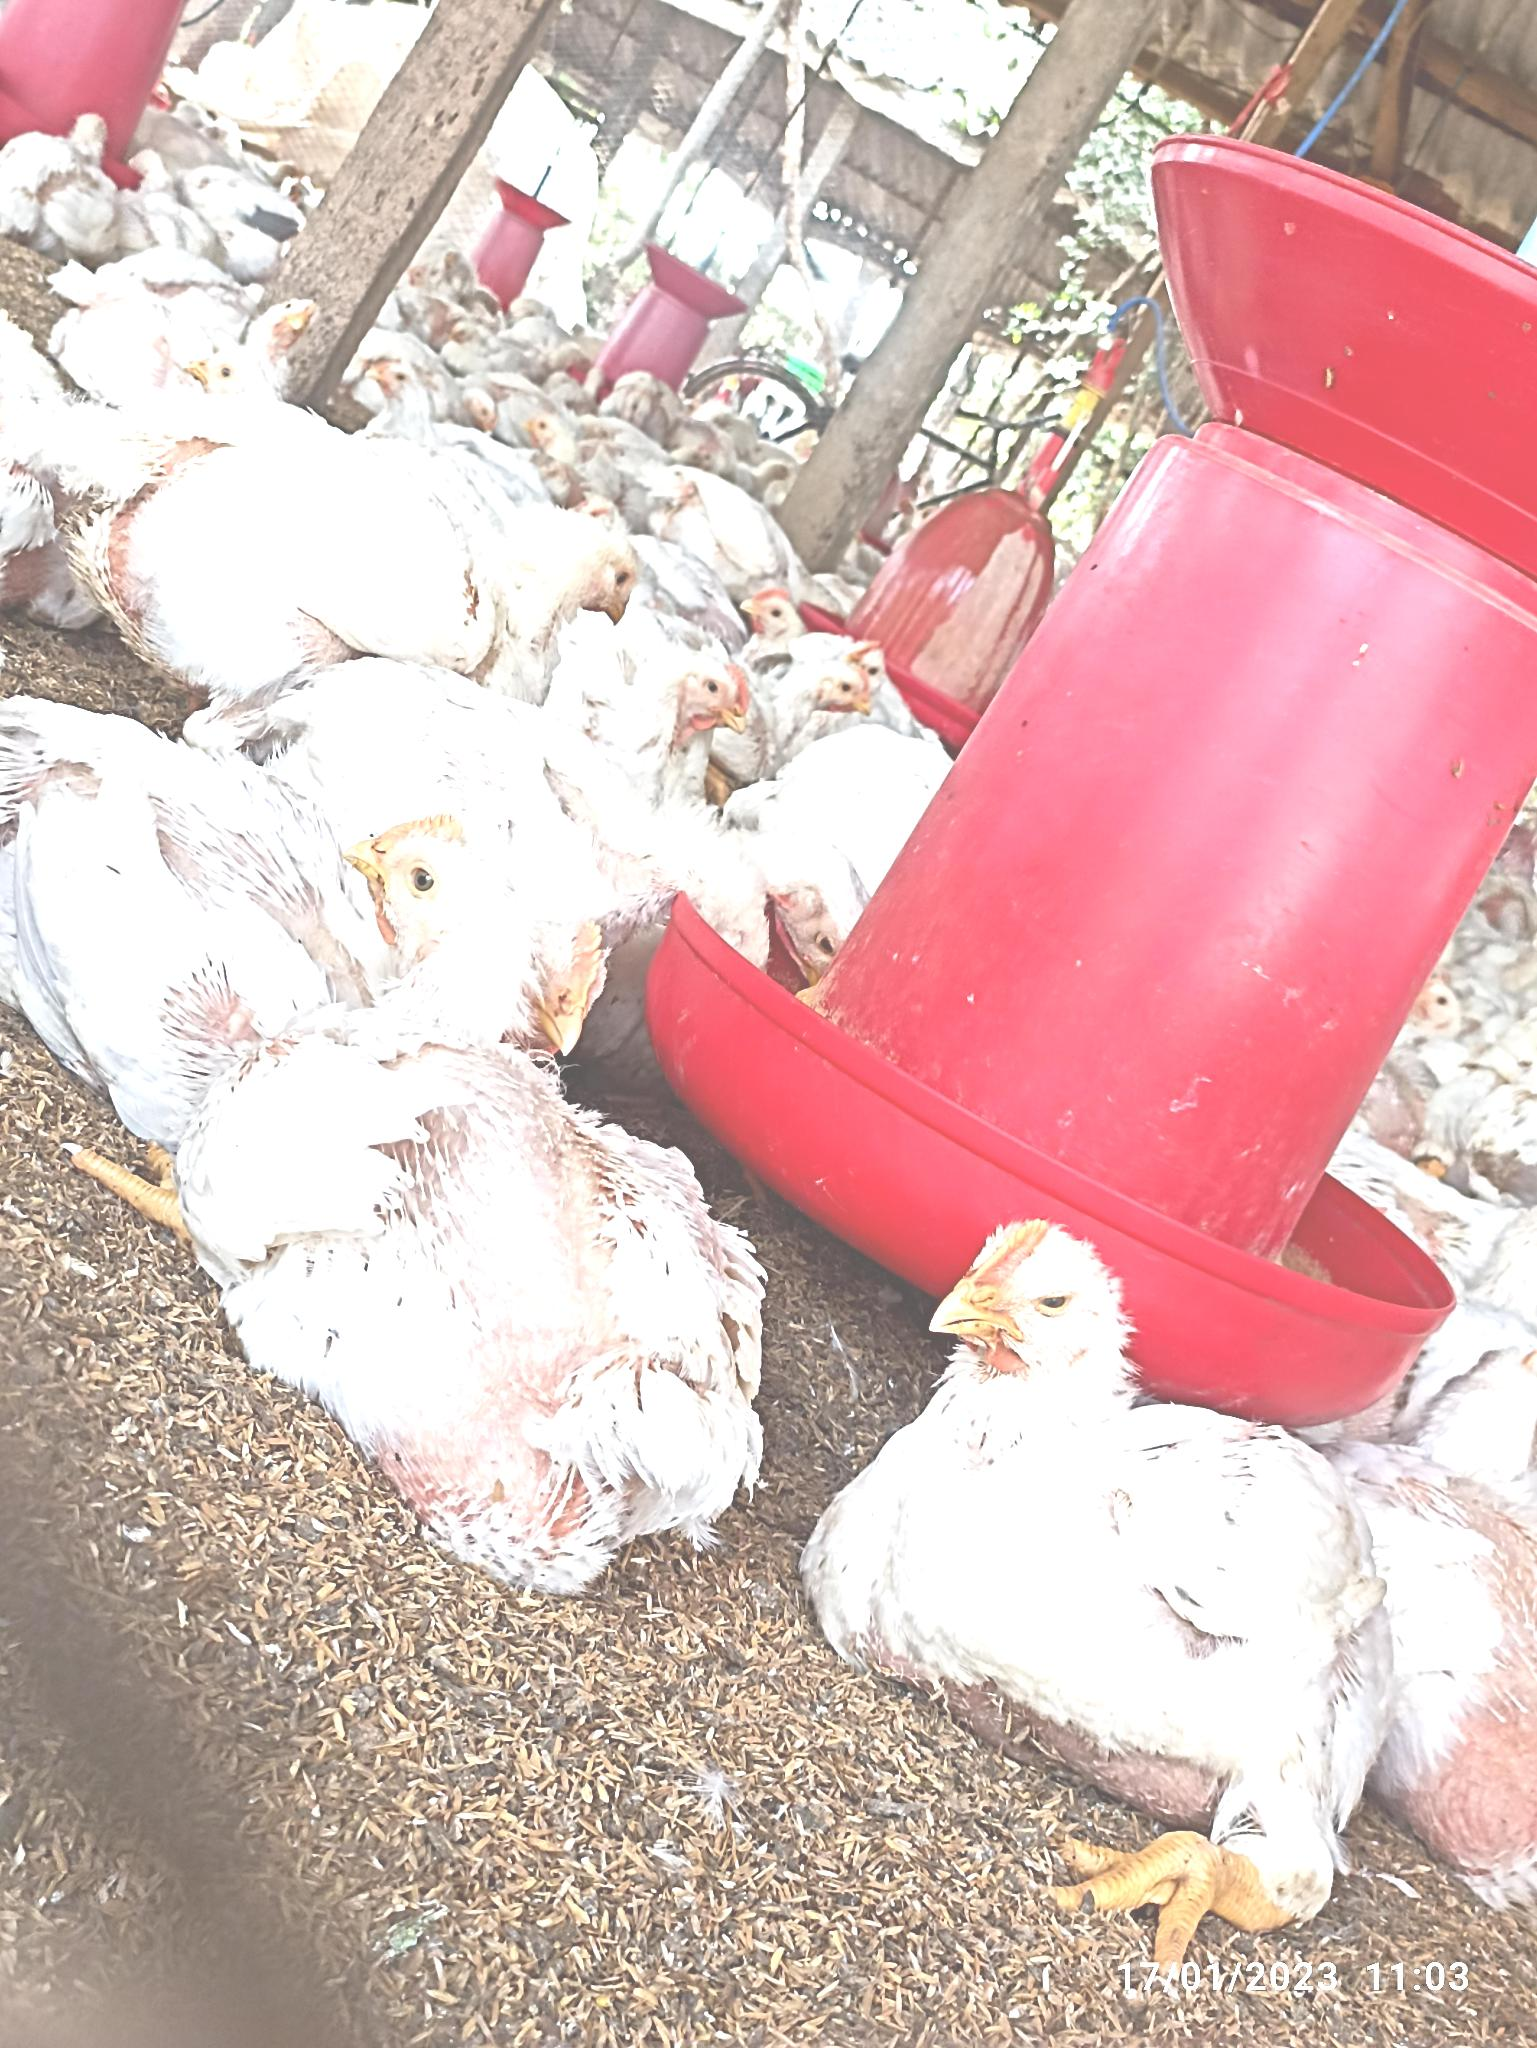Pollos: (232, 826, 722, 1549), (852, 1223, 1388, 1832), (103, 405, 638, 658), (300, 654, 743, 823)
